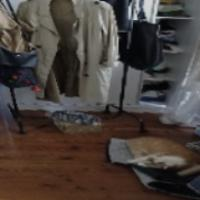asleep: (126, 133, 200, 175)
